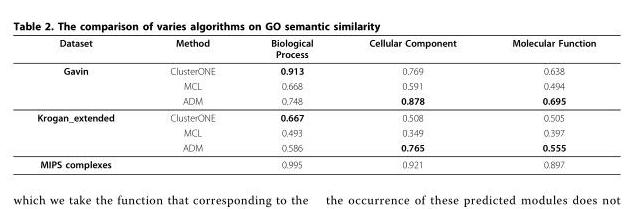table: (36, 36, 595, 169)
table column: (340, 36, 483, 169), (483, 36, 595, 169), (36, 36, 141, 169), (141, 36, 242, 169), (242, 36, 340, 169)
table column header: (36, 36, 595, 62)
table row: (36, 36, 595, 62), (36, 62, 595, 78), (36, 108, 595, 124), (36, 139, 595, 155), (36, 78, 595, 93), (36, 93, 595, 108), (36, 124, 595, 139), (36, 155, 595, 169)
table spanning cell: (36, 108, 141, 155), (36, 62, 141, 108)
